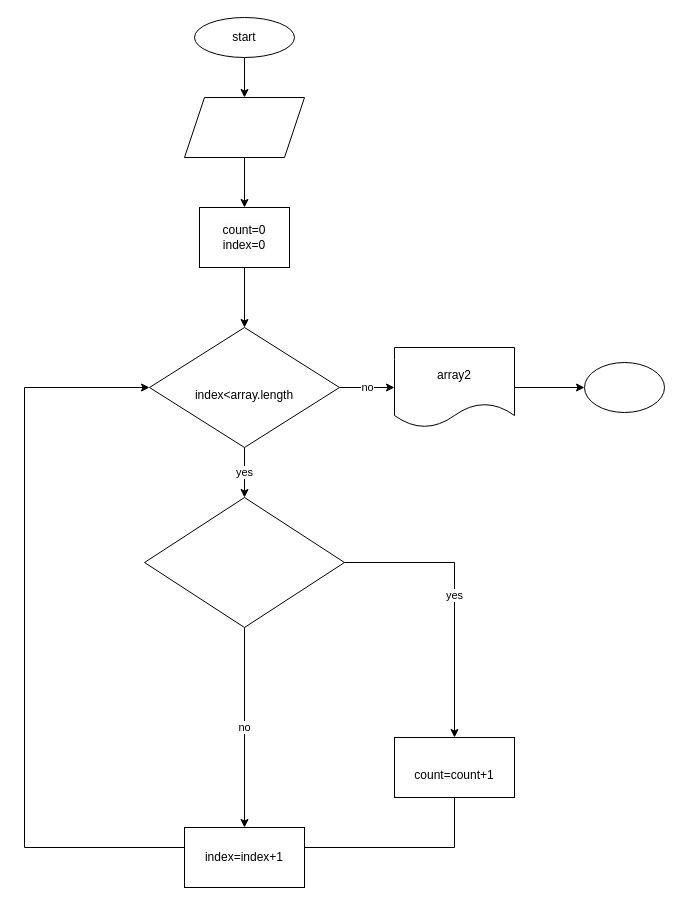
Image size: 682x905. Some labels were removed from this diagram. The box of each missing label's shape, as (x1, y1, x2, y2) in pixels:
array.length<=3: (144, 496, 344, 628)
finish: (584, 362, 664, 412)
size array1{size}: (184, 96, 304, 158)
